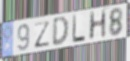8: (108, 7, 124, 38)
9: (17, 22, 31, 53)
D: (52, 16, 70, 47)
H: (88, 8, 107, 43)
L: (72, 14, 87, 44)
Z: (34, 20, 52, 49)
